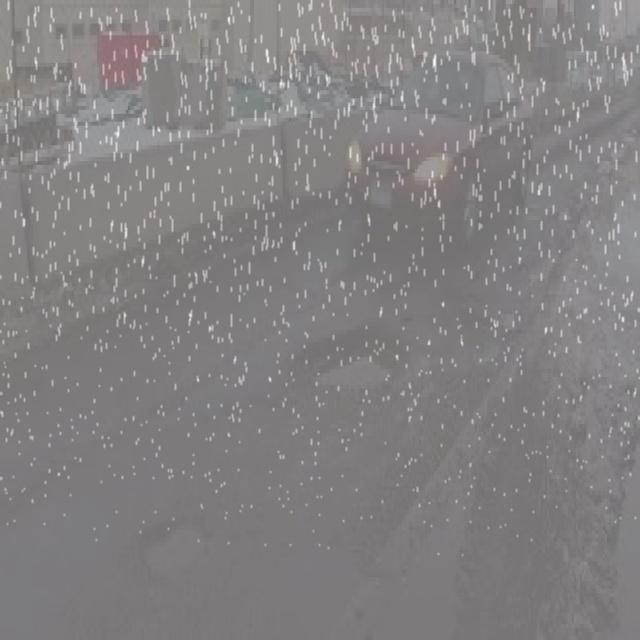Pothole: (535, 249, 640, 640), (274, 338, 416, 400)
